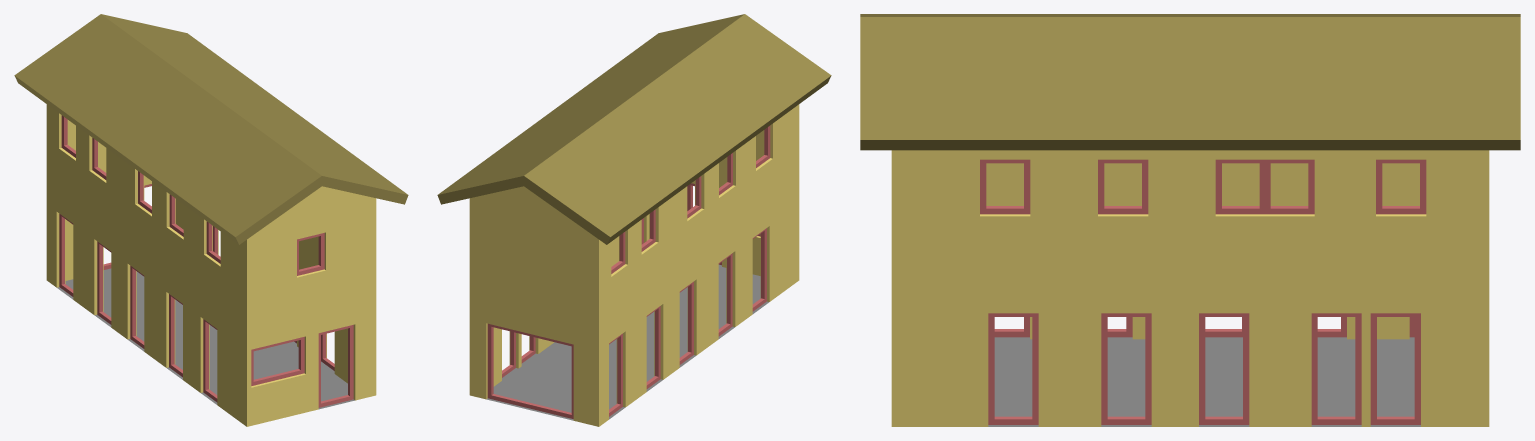
The model's file is result.glb.
The picture shows the model from 3 angles, left to right: view 1: azimuth 30°, elevation 25°; view 2: azimuth 150°, elevation 25°; view 3: azimuth 270°, elevation 25°; orthographic projection. The views are drawn at different scales.
Parts seen in each view (by area): view 1: ee79d91d-34cd-48f2-bec9-99224587e31f__undefined, 71eca493-2357-40f3-801c-1f4d4d95c01f__undefined (×2), a153405d-76eb-457b-bc8b-b249f7546d54__Plane_24, a2c3a377-8cb6-4bf5-9855-1d97de4e600c__Box, 6dde2d3e-f869-43b5-b69c-caddfea2e029__Box_3, bf845516-861f-44c6-85c2-35fa7db09431__Box_12, 50900f40-458d-4d28-a0cc-897a6a951af4__Box_18, 14b1db69-f728-4751-b87d-bd4f8923eeba__Box_21, 00e32602-e1b0-4315-a0bf-a441e895ce54__Box_24, 11415d68-89c1-4cae-80d3-cc833acec1eb__Box_15, 9da24f35-9664-4547-a267-20a80d66c250__Box_6; view 2: ee79d91d-34cd-48f2-bec9-99224587e31f__undefined, 71eca493-2357-40f3-801c-1f4d4d95c01f__undefined (×2), a153405d-76eb-457b-bc8b-b249f7546d54__Plane_24, 38c8e513-d76a-48d0-8aaa-42a77c205da0__Box_9, bf845516-861f-44c6-85c2-35fa7db09431__Box_12, 11415d68-89c1-4cae-80d3-cc833acec1eb__Box_15, 50900f40-458d-4d28-a0cc-897a6a951af4__Box_18, 14b1db69-f728-4751-b87d-bd4f8923eeba__Box_21, 00e32602-e1b0-4315-a0bf-a441e895ce54__Box_24; view 3: ee79d91d-34cd-48f2-bec9-99224587e31f__undefined, 71eca493-2357-40f3-801c-1f4d4d95c01f__undefined (×2), a153405d-76eb-457b-bc8b-b249f7546d54__Plane_24, ada7b557-850f-4145-a0bd-4d15076dd78d__Box_42, ca97768d-d215-4209-9f9a-bc5c8c362c55__Box_45, 4fcd9cbe-a558-4a47-80fa-dbe375ae94a7__Box_48, 8267fe8b-23dd-4862-a9aa-96565486b5aa__Box_51, 0092560c-cdf7-4bdd-a07b-dfea9aa39986__Box_54, 10ece44c-c0f4-4329-819b-837a1e95b37d__Box_66, 2360292d-8b3a-49ce-b6ed-a47f35be0036__Box_57, 305006e3-56b3-4794-93a5-06c300e7d815__Box_60, a14016e0-5ccb-49c3-9e60-73dcdc32cf9d__Box_69 (+1 smaller).
Boxes of the visible parts, x1,y1,x2,y2 form: ee79d91d-34cd-48f2-bec9-99224587e31f__undefined: [46, 104, 376, 426]; 71eca493-2357-40f3-801c-1f4d4d95c01f__undefined (×2): [14, 14, 408, 244]; a153405d-76eb-457b-bc8b-b249f7546d54__Plane_24: [57, 268, 354, 409]; a2c3a377-8cb6-4bf5-9855-1d97de4e600c__Box: [318, 325, 353, 407]; 6dde2d3e-f869-43b5-b69c-caddfea2e029__Box_3: [251, 337, 304, 385]; bf845516-861f-44c6-85c2-35fa7db09431__Box_12: [203, 319, 217, 402]; 50900f40-458d-4d28-a0cc-897a6a951af4__Box_18: [130, 265, 144, 348]; 14b1db69-f728-4751-b87d-bd4f8923eeba__Box_21: [97, 241, 111, 324]; 00e32602-e1b0-4315-a0bf-a441e895ce54__Box_24: [59, 214, 73, 296]; 11415d68-89c1-4cae-80d3-cc833acec1eb__Box_15: [169, 294, 182, 377]; 9da24f35-9664-4547-a267-20a80d66c250__Box_6: [297, 233, 324, 275]; ee79d91d-34cd-48f2-bec9-99224587e31f__undefined: [469, 104, 799, 426]; 71eca493-2357-40f3-801c-1f4d4d95c01f__undefined (×2): [437, 14, 831, 244]; a153405d-76eb-457b-bc8b-b249f7546d54__Plane_24: [486, 264, 769, 420]; 38c8e513-d76a-48d0-8aaa-42a77c205da0__Box_9: [487, 323, 573, 418]; bf845516-861f-44c6-85c2-35fa7db09431__Box_12: [752, 228, 766, 311]; 11415d68-89c1-4cae-80d3-cc833acec1eb__Box_15: [718, 253, 732, 336]; 50900f40-458d-4d28-a0cc-897a6a951af4__Box_18: [679, 281, 693, 364]; 14b1db69-f728-4751-b87d-bd4f8923eeba__Box_21: [646, 306, 660, 388]; 00e32602-e1b0-4315-a0bf-a441e895ce54__Box_24: [609, 333, 622, 416]; ee79d91d-34cd-48f2-bec9-99224587e31f__undefined: [891, 150, 1489, 426]; 71eca493-2357-40f3-801c-1f4d4d95c01f__undefined (×2): [860, 14, 1520, 150]; a153405d-76eb-457b-bc8b-b249f7546d54__Plane_24: [988, 337, 1420, 426]; ada7b557-850f-4145-a0bd-4d15076dd78d__Box_42: [988, 313, 1038, 424]; ca97768d-d215-4209-9f9a-bc5c8c362c55__Box_45: [1101, 313, 1151, 424]; 4fcd9cbe-a558-4a47-80fa-dbe375ae94a7__Box_48: [1199, 313, 1249, 424]; 8267fe8b-23dd-4862-a9aa-96565486b5aa__Box_51: [1311, 313, 1361, 424]; 0092560c-cdf7-4bdd-a07b-dfea9aa39986__Box_54: [1370, 313, 1420, 424]; 10ece44c-c0f4-4329-819b-837a1e95b37d__Box_66: [1264, 159, 1314, 214]; 2360292d-8b3a-49ce-b6ed-a47f35be0036__Box_57: [980, 159, 1030, 214]; 305006e3-56b3-4794-93a5-06c300e7d815__Box_60: [1098, 159, 1148, 214]; a14016e0-5ccb-49c3-9e60-73dcdc32cf9d__Box_69: [1376, 159, 1426, 214].
Size of the model in its own units: 475 by 638 by 1052.
